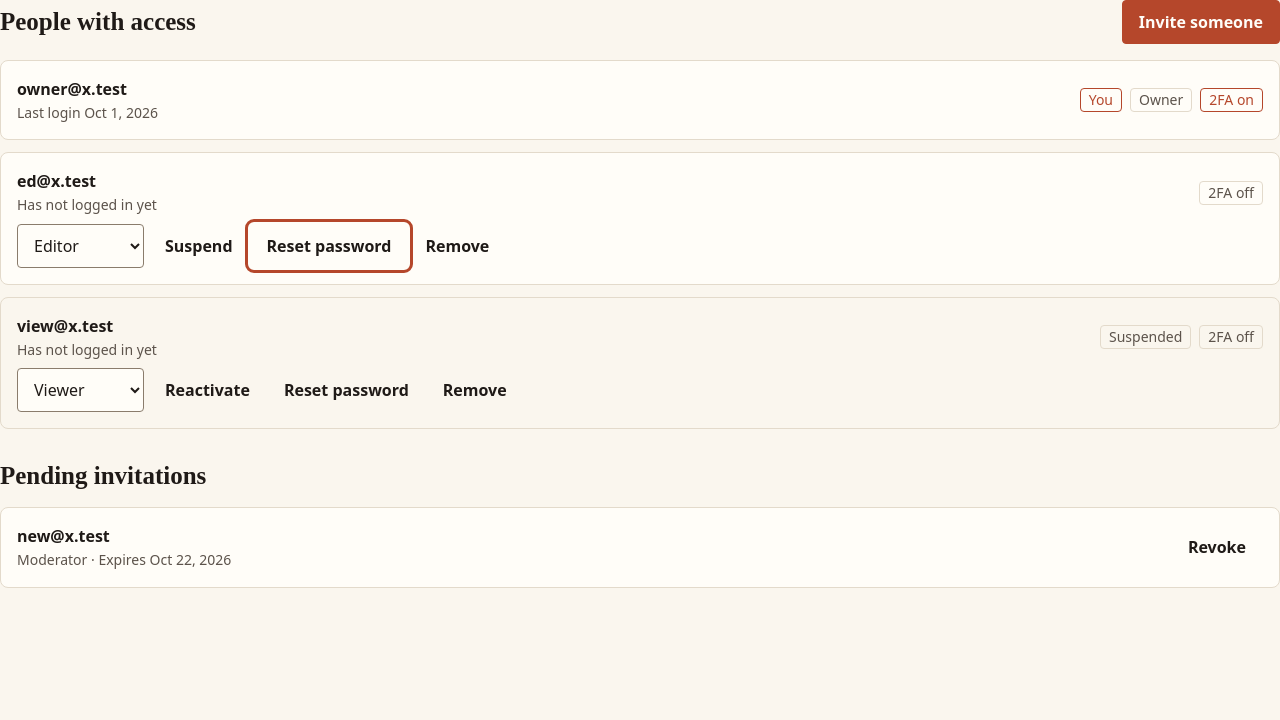
Test case: MembersManager › shows the temporary password once, with a copy button, and returns focus
Click the button with aria-label "Reset password for ed@x.test".
click(329, 246)  # box [250,224,408,268]
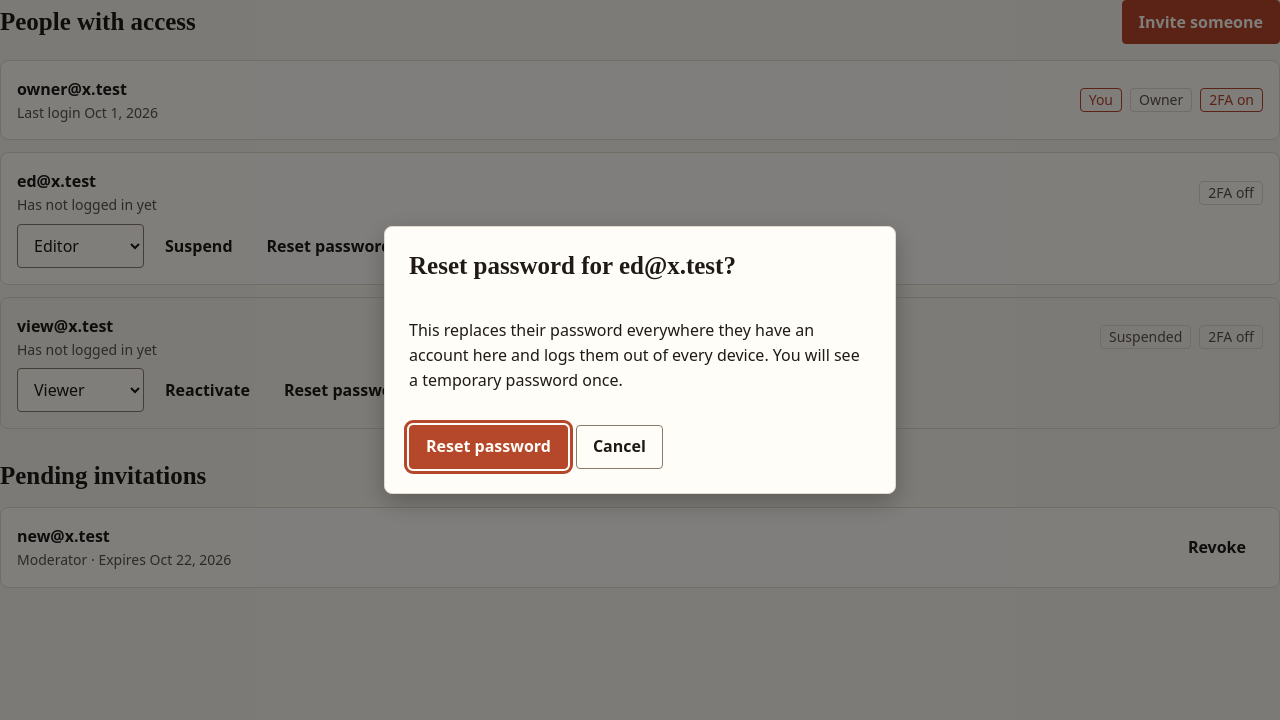
Click the button "Reset password".
click(488, 447)  # box [409,425,568,469]
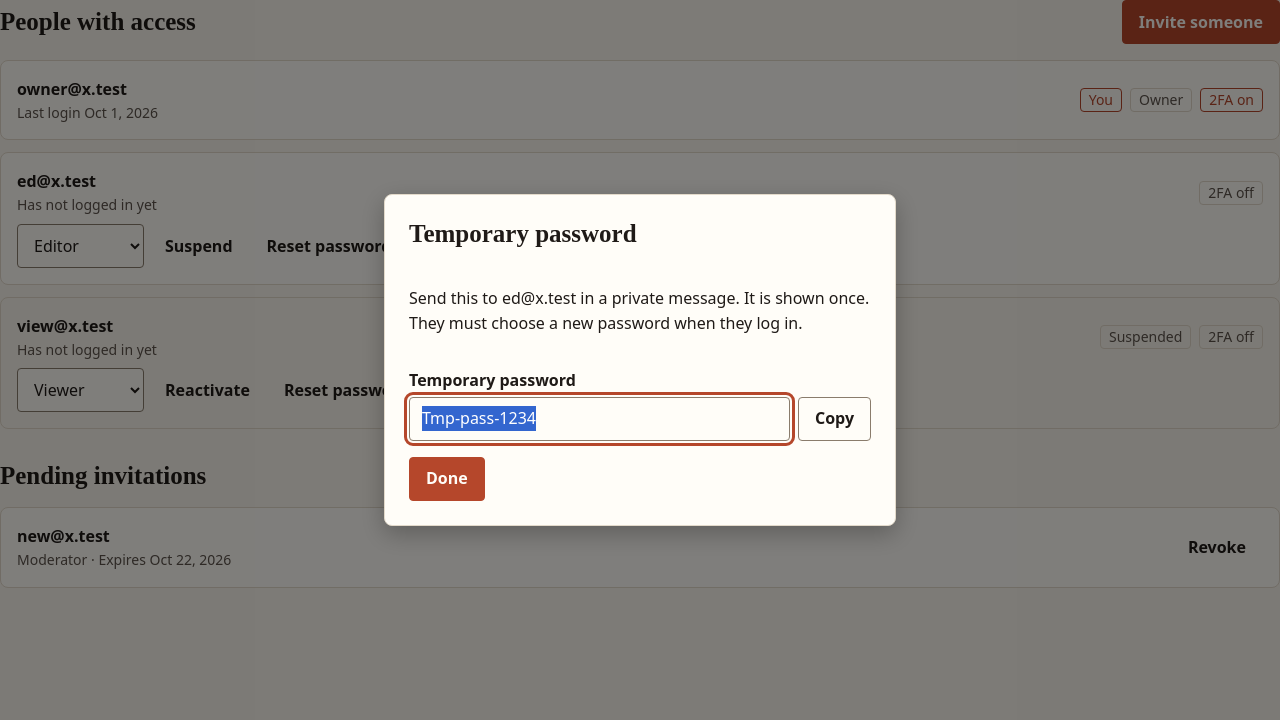
Check: the field labelled "Temporary password" holds "Tmp-pass-1234", box [409,397,790,441]
Click the button "Copy".
click(834, 419)  # box [798,397,871,441]
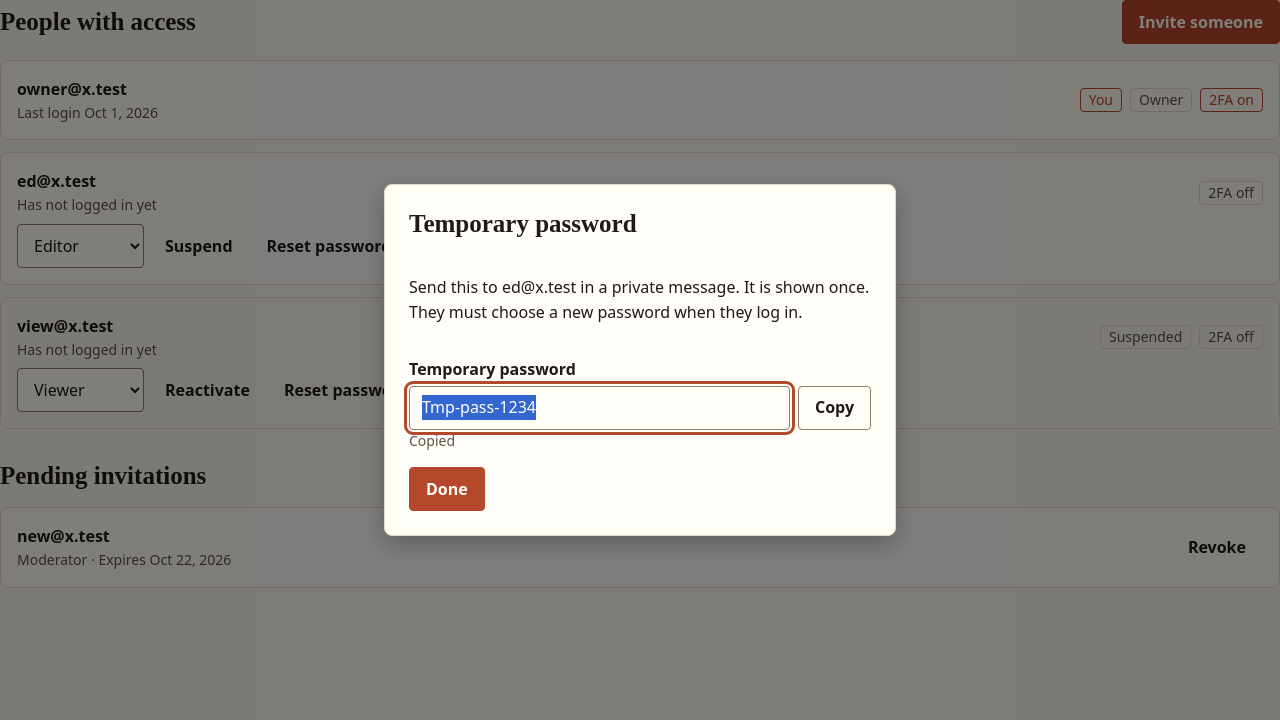
Press Escape in the dialog, box [384,184,896,536]
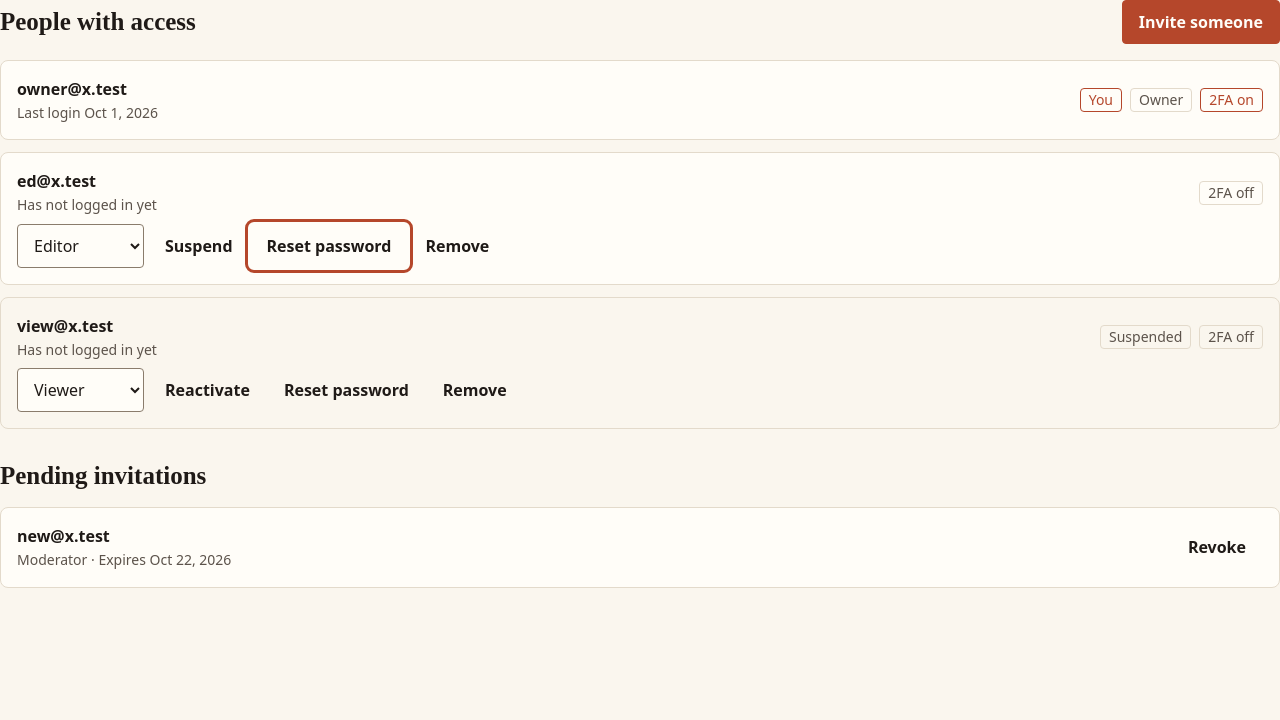
Check: the dialog is gone
